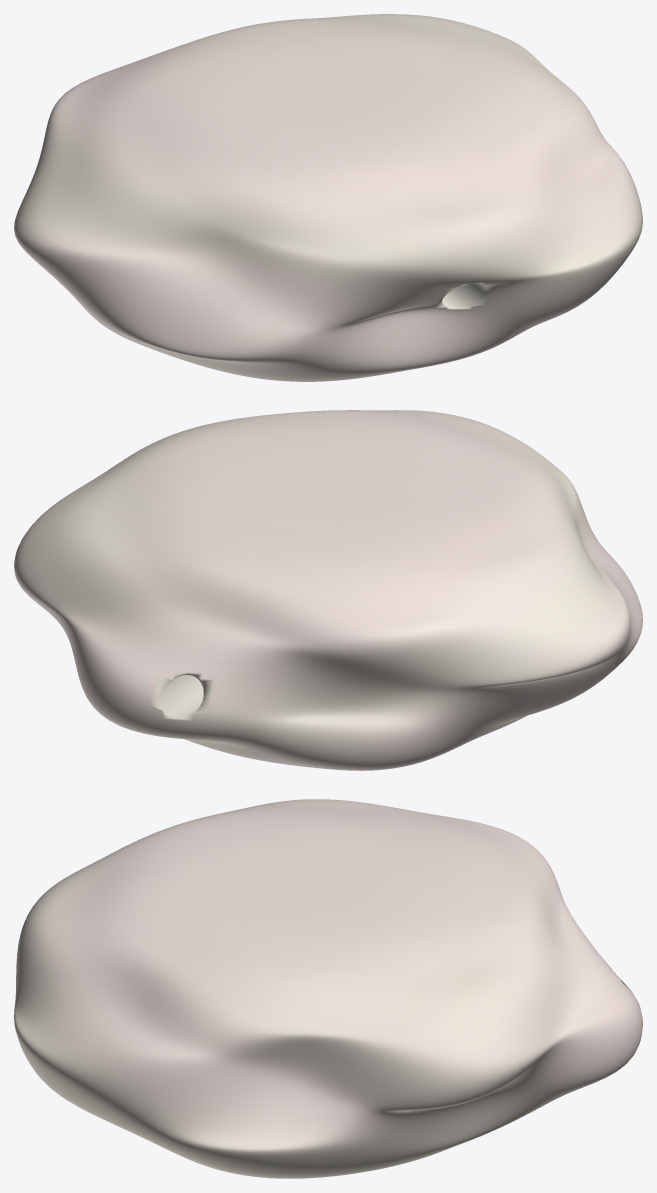
Rendered from pearl-ref-17.glb.
3 views of the same model, one above another, from view 1: azimuth 30°, elevation 25°; view 2: azimuth 150°, elevation 25°; view 3: azimuth 270°, elevation 25° (orthographic). The views are drawn at different scales.
Parts seen in each view (by area): view 1: pearl-ref-17; view 2: pearl-ref-17; view 3: pearl-ref-17.
Boxes of the visible parts, box(x1,y1,x2,y2) form: pearl-ref-17: box(14, 14, 642, 381); pearl-ref-17: box(14, 410, 642, 770); pearl-ref-17: box(14, 799, 642, 1178).
Bounding box in the file's own units: 0.0128 × 0.0045 × 0.0124.
2 materials, 1 textured.
